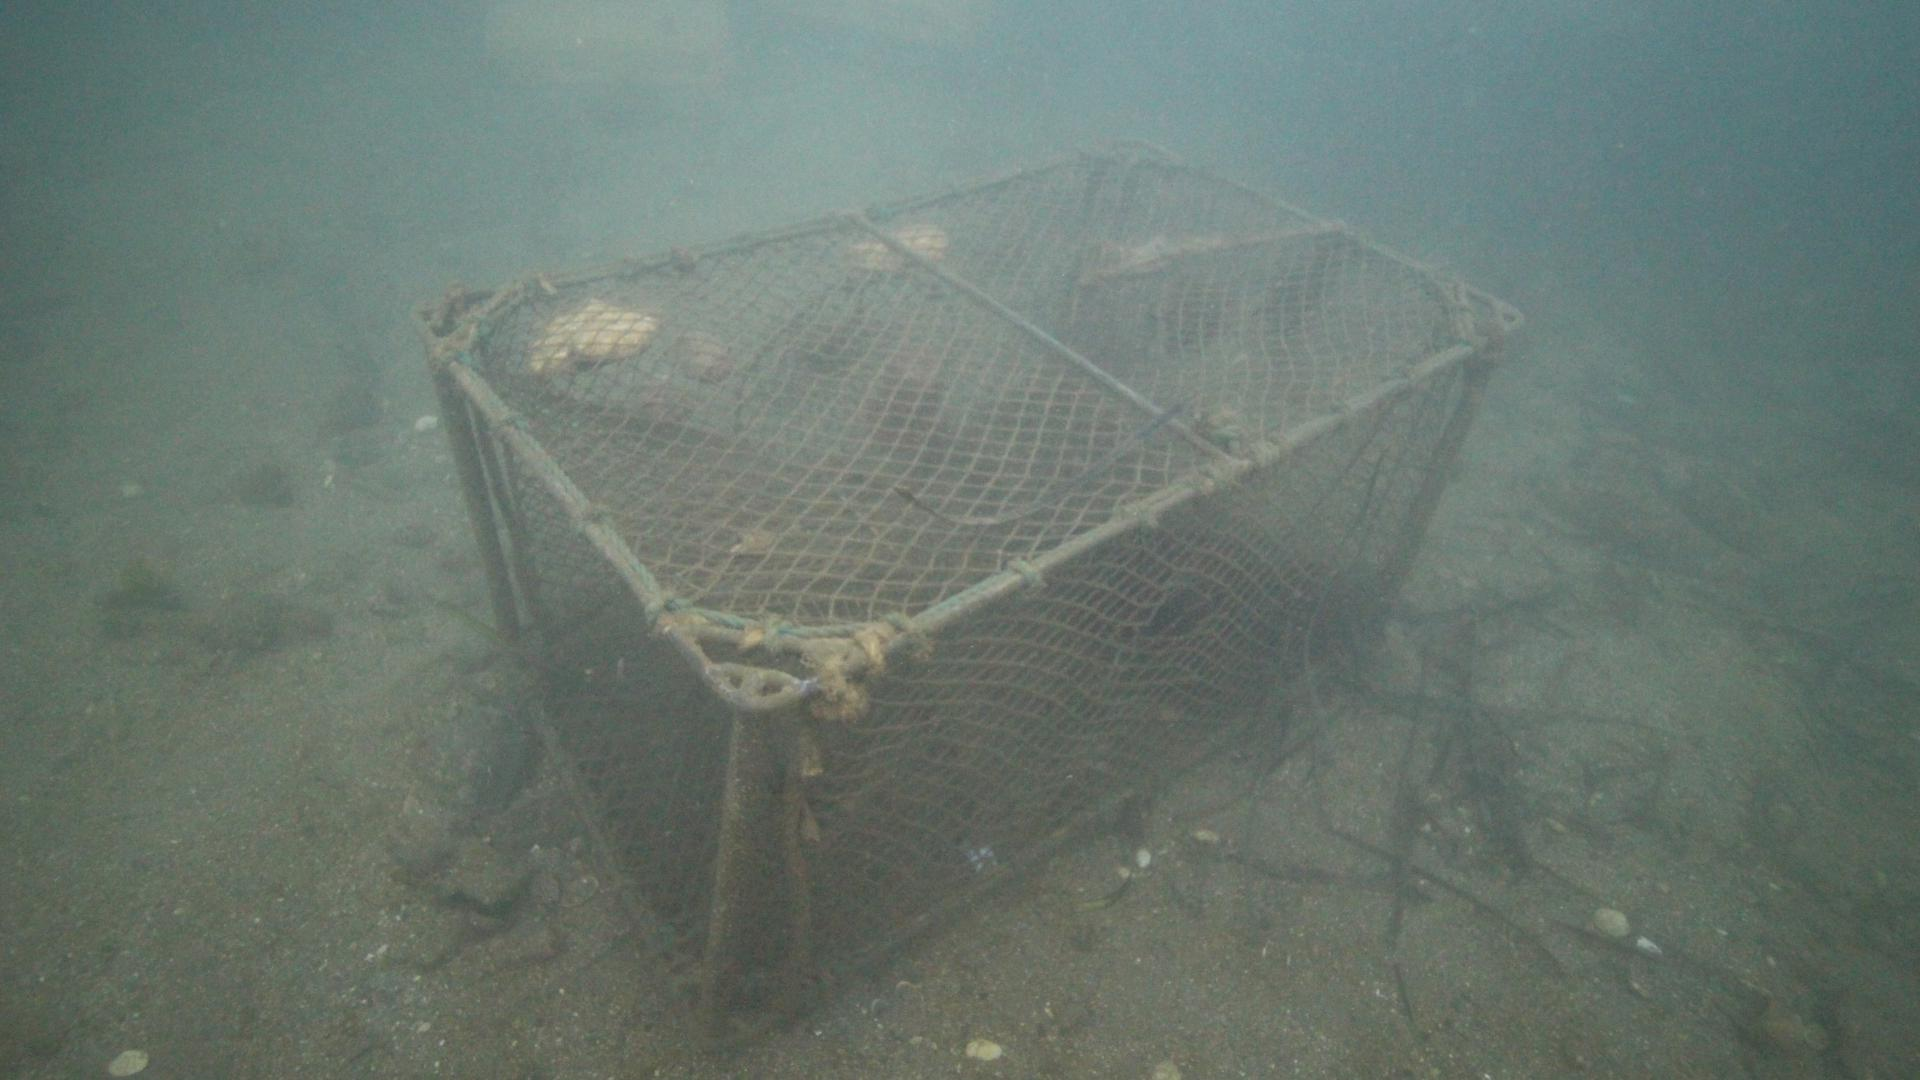rectangular fish trap: (404, 131, 1530, 1055)
